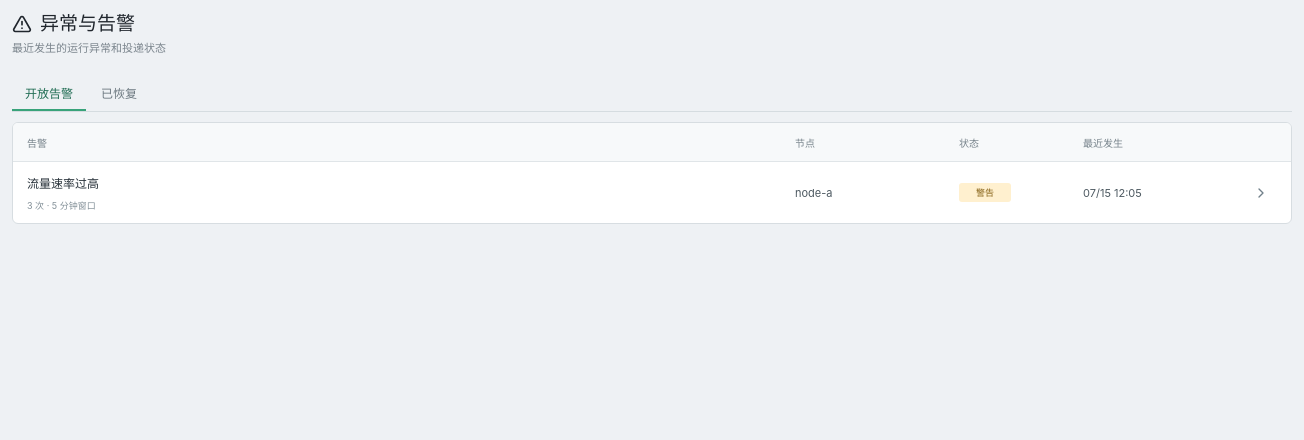
it: filters open and resolved alerts and exposes evidence drill-down
Expected: the text "流量速率过高" is shown, [27,176,99,190]
Expected: the text "警告" is shown, [959,183,1011,202]
Step 1. Click the tab "已恢复" → click(119, 93), box [88,75,150,111]
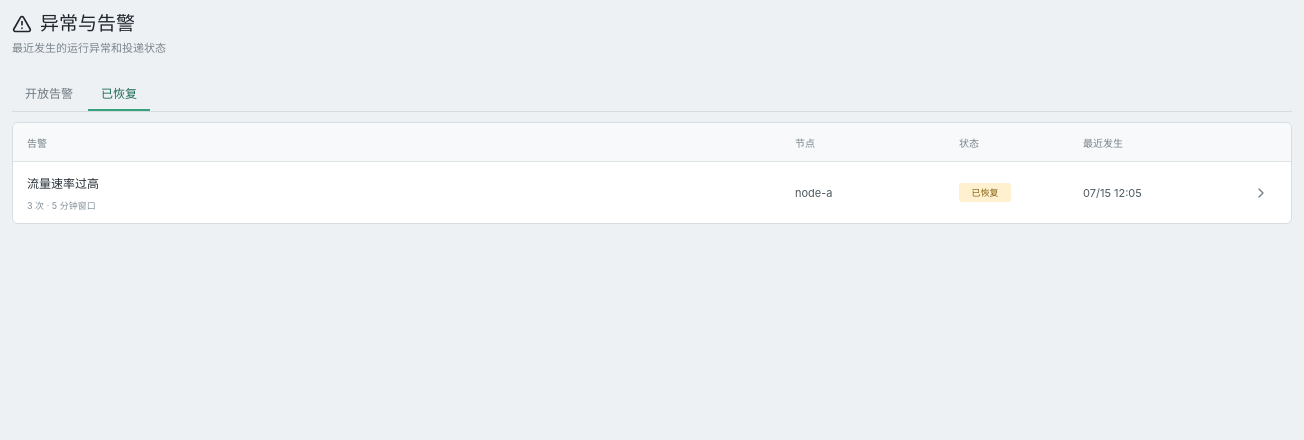
Step 2. Click the link "流量速率过高 3 次 · 5 分钟窗口" → click(63, 193), box [27,176,99,210]
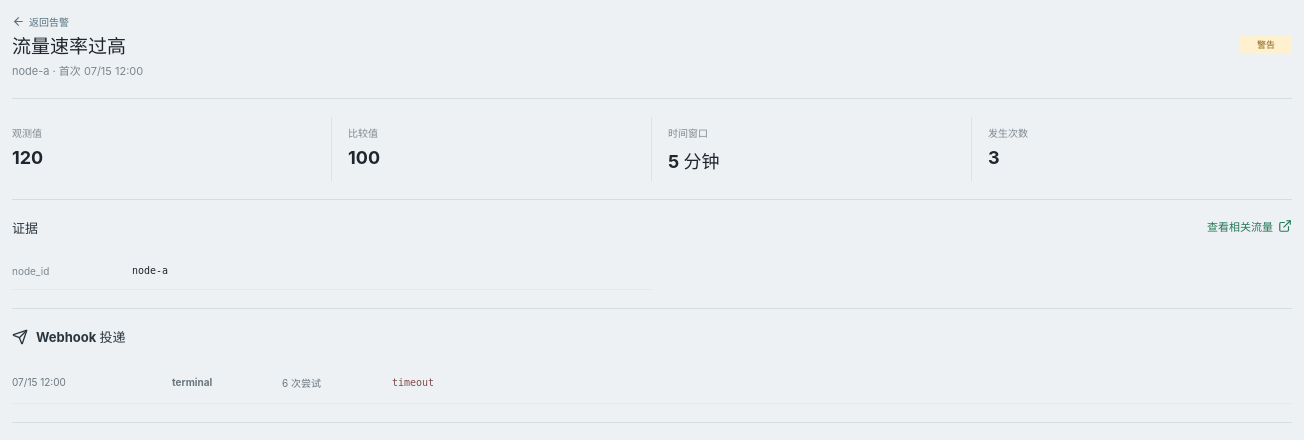
Now the heading "Webhook 投递" is shown, box [12,327,126,346]
Now the text "timeout" is shown, box [392,376,434,388]
